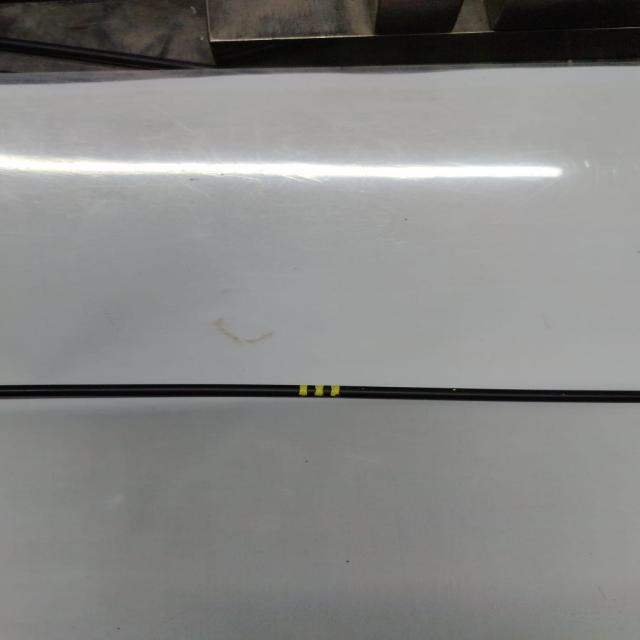yellow: (299, 385, 340, 397)
